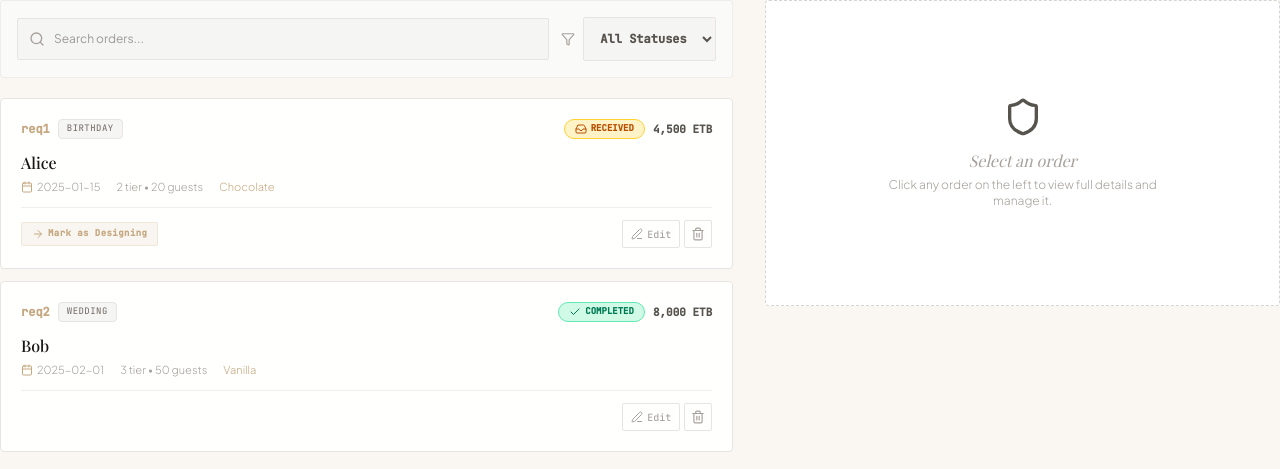
Test: AdminOrders › filters orders by search term
Type "Alice" into the field with placeholder "Search orders...". click: (283, 39)
box: [17,18,549,60]
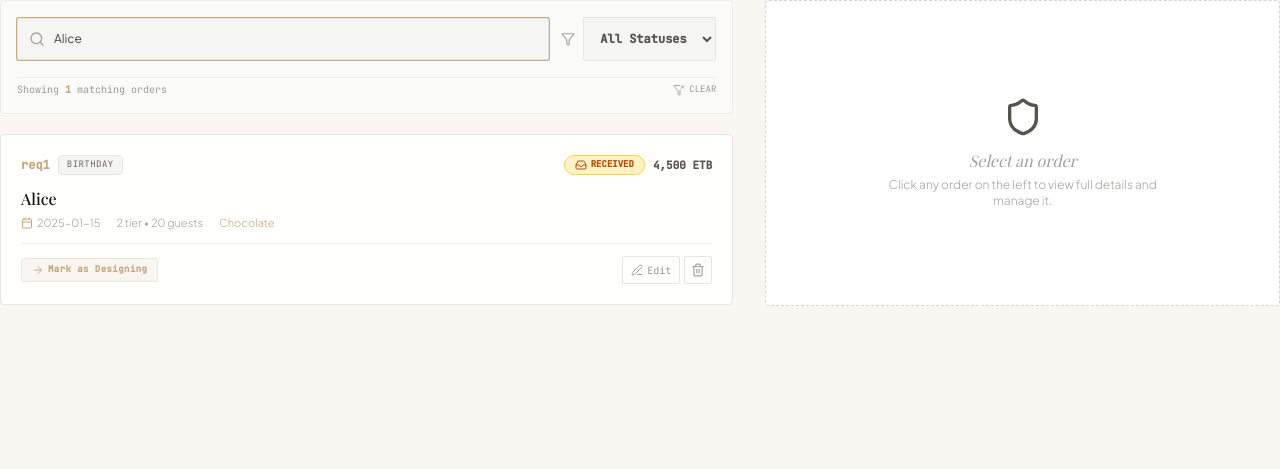
Expected: the heading "Alice" is shown, [21,188,57,208]
Now the button "Bob" is gone
